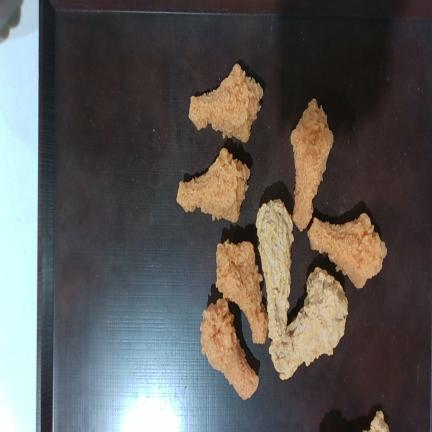chicken: (270, 267, 348, 379), (200, 298, 258, 399), (308, 213, 386, 288), (189, 64, 263, 142), (291, 98, 333, 231), (255, 199, 293, 343), (216, 240, 268, 343), (177, 148, 249, 222)
